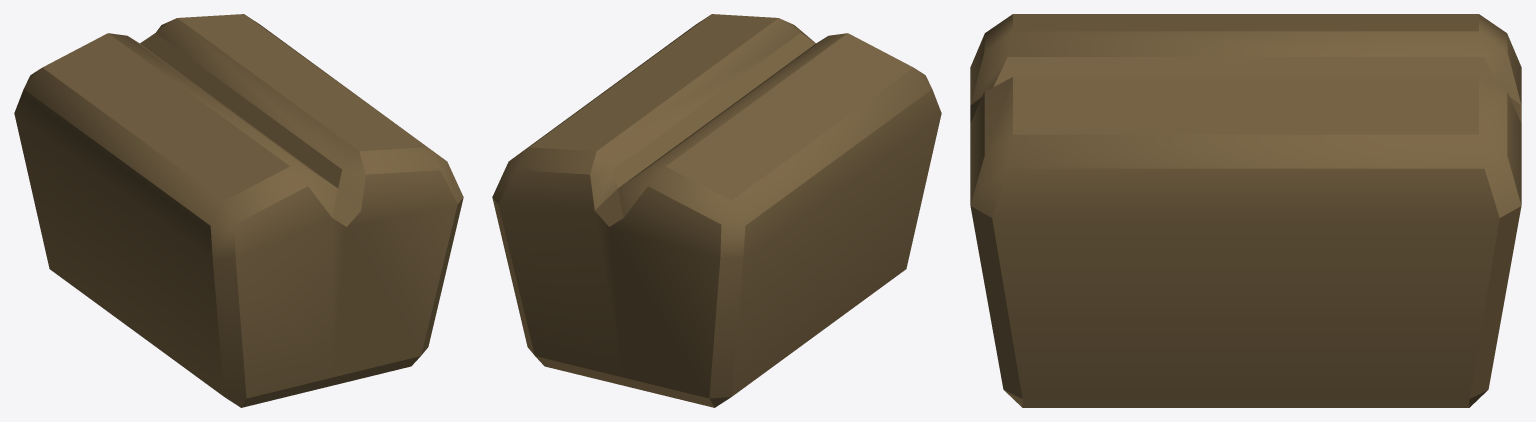
The model's file is Bread.FBX.
The picture shows the model from 3 angles, left to right: view 1: azimuth 30°, elevation 25°; view 2: azimuth 150°, elevation 25°; view 3: azimuth 270°, elevation 25°; orthographic projection. The views are drawn at different scales.
Visible parts, largest first — view 1: Bread; view 2: Bread; view 3: Bread.
Part boxes in pixels (x1=…): Bread: x1=14, y1=14, x2=463, y2=407; Bread: x1=492, y1=14, x2=941, y2=407; Bread: x1=970, y1=14, x2=1521, y2=407.
Bounding box in the file's own units: 14.25 × 12.65 × 21.17.
Materials: 1 (1 with a texture image).
